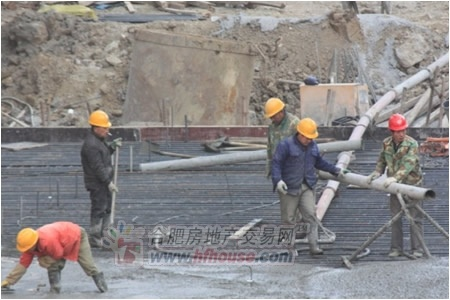red: (388, 113, 407, 141)
yellow: (86, 110, 111, 137), (15, 225, 37, 254), (296, 117, 318, 144), (265, 97, 286, 125)
